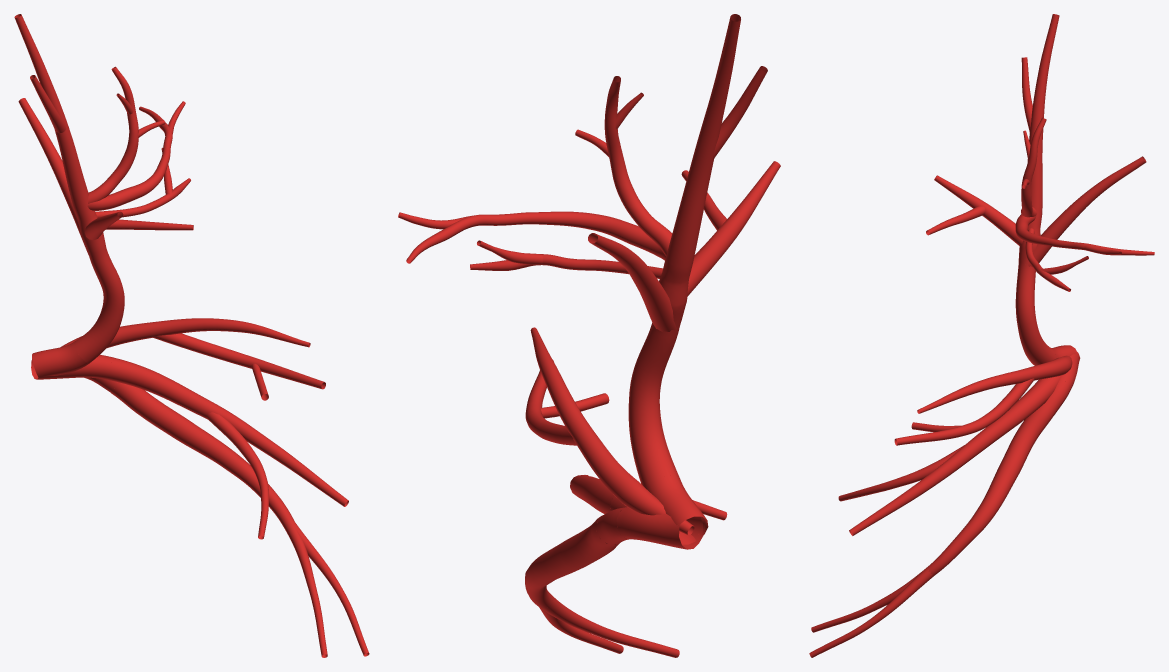
File: circulatorio-left-superior-pulmonary-vein.glb
3 renders of one model, left to right at view 1: azimuth 30°, elevation 25°; view 2: azimuth 150°, elevation 25°; view 3: azimuth 270°, elevation 25°, orthographic. The views are drawn at different scales.
Parts seen in each view (by area): view 1: Apicoposterior vein of left lung, Inferior lingular vein of left lung, Superior lingular vein of left lung, Anterior vein of left lung, Left superior pulmonary vein, Lingular vein of left lung; view 2: Apicoposterior vein of left lung, Anterior vein of left lung, Inferior lingular vein of left lung, Left superior pulmonary vein, Superior lingular vein of left lung, Lingular vein of left lung; view 3: Apicoposterior vein of left lung, Inferior lingular vein of left lung, Superior lingular vein of left lung, Anterior vein of left lung, Lingular vein of left lung, Left superior pulmonary vein.
Boxes of the visible parts, box(x1,y1,x2,y2) form: Apicoposterior vein of left lung: box(14, 14, 193, 363); Inferior lingular vein of left lung: box(111, 382, 369, 657); Superior lingular vein of left lung: box(107, 357, 348, 539); Anterior vein of left lung: box(61, 318, 325, 400); Left superior pulmonary vein: box(31, 341, 88, 379); Lingular vein of left lung: box(74, 355, 118, 392); Apicoposterior vein of left lung: box(398, 14, 780, 486); Anterior vein of left lung: box(525, 327, 694, 535); Inferior lingular vein of left lung: box(525, 515, 679, 657); Left superior pulmonary vein: box(616, 475, 708, 549); Superior lingular vein of left lung: box(570, 475, 727, 520); Lingular vein of left lung: box(596, 496, 628, 544); Apicoposterior vein of left lung: box(926, 14, 1154, 365); Inferior lingular vein of left lung: box(809, 405, 1053, 657); Superior lingular vein of left lung: box(838, 381, 1052, 535); Anterior vein of left lung: box(894, 355, 1072, 445); Lingular vein of left lung: box(1035, 375, 1070, 415); Left superior pulmonary vein: box(1051, 345, 1080, 390).
Size of the model in its own units: 0.0682 by 0.1697 by 0.0969.
